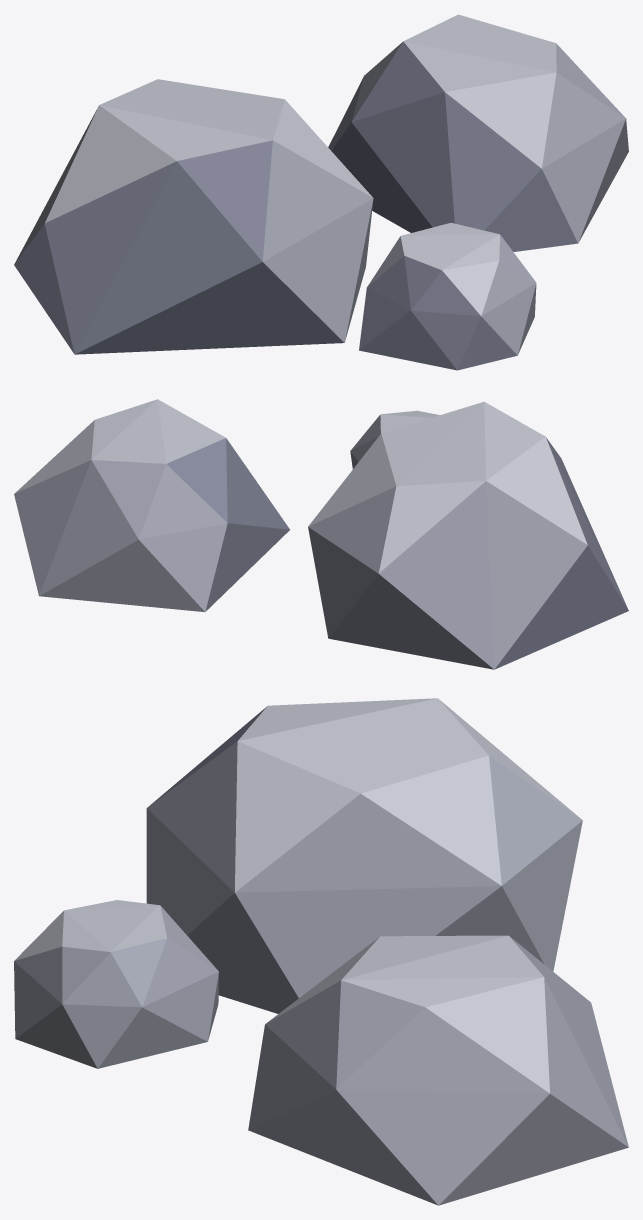
File: stone_largeE.glb
The picture shows the model from 3 angles, top to bottom: view 1: azimuth 30°, elevation 25°; view 2: azimuth 150°, elevation 25°; view 3: azimuth 270°, elevation 25°; orthographic projection. The views are drawn at different scales.
Parts seen in each view (by area): view 1: stone_largeE; view 2: stone_largeE; view 3: stone_largeE.
Part boxes in pixels (<box>): stone_largeE: <box>14,14,628,370</box>; stone_largeE: <box>14,399,628,669</box>; stone_largeE: <box>14,698,628,1205</box>.
Size of the model in its own units: 1.03 by 0.2879 by 0.7543.
Materials: 1 (1 with a texture image).
